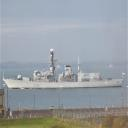Fragata: (3, 48, 125, 91)
